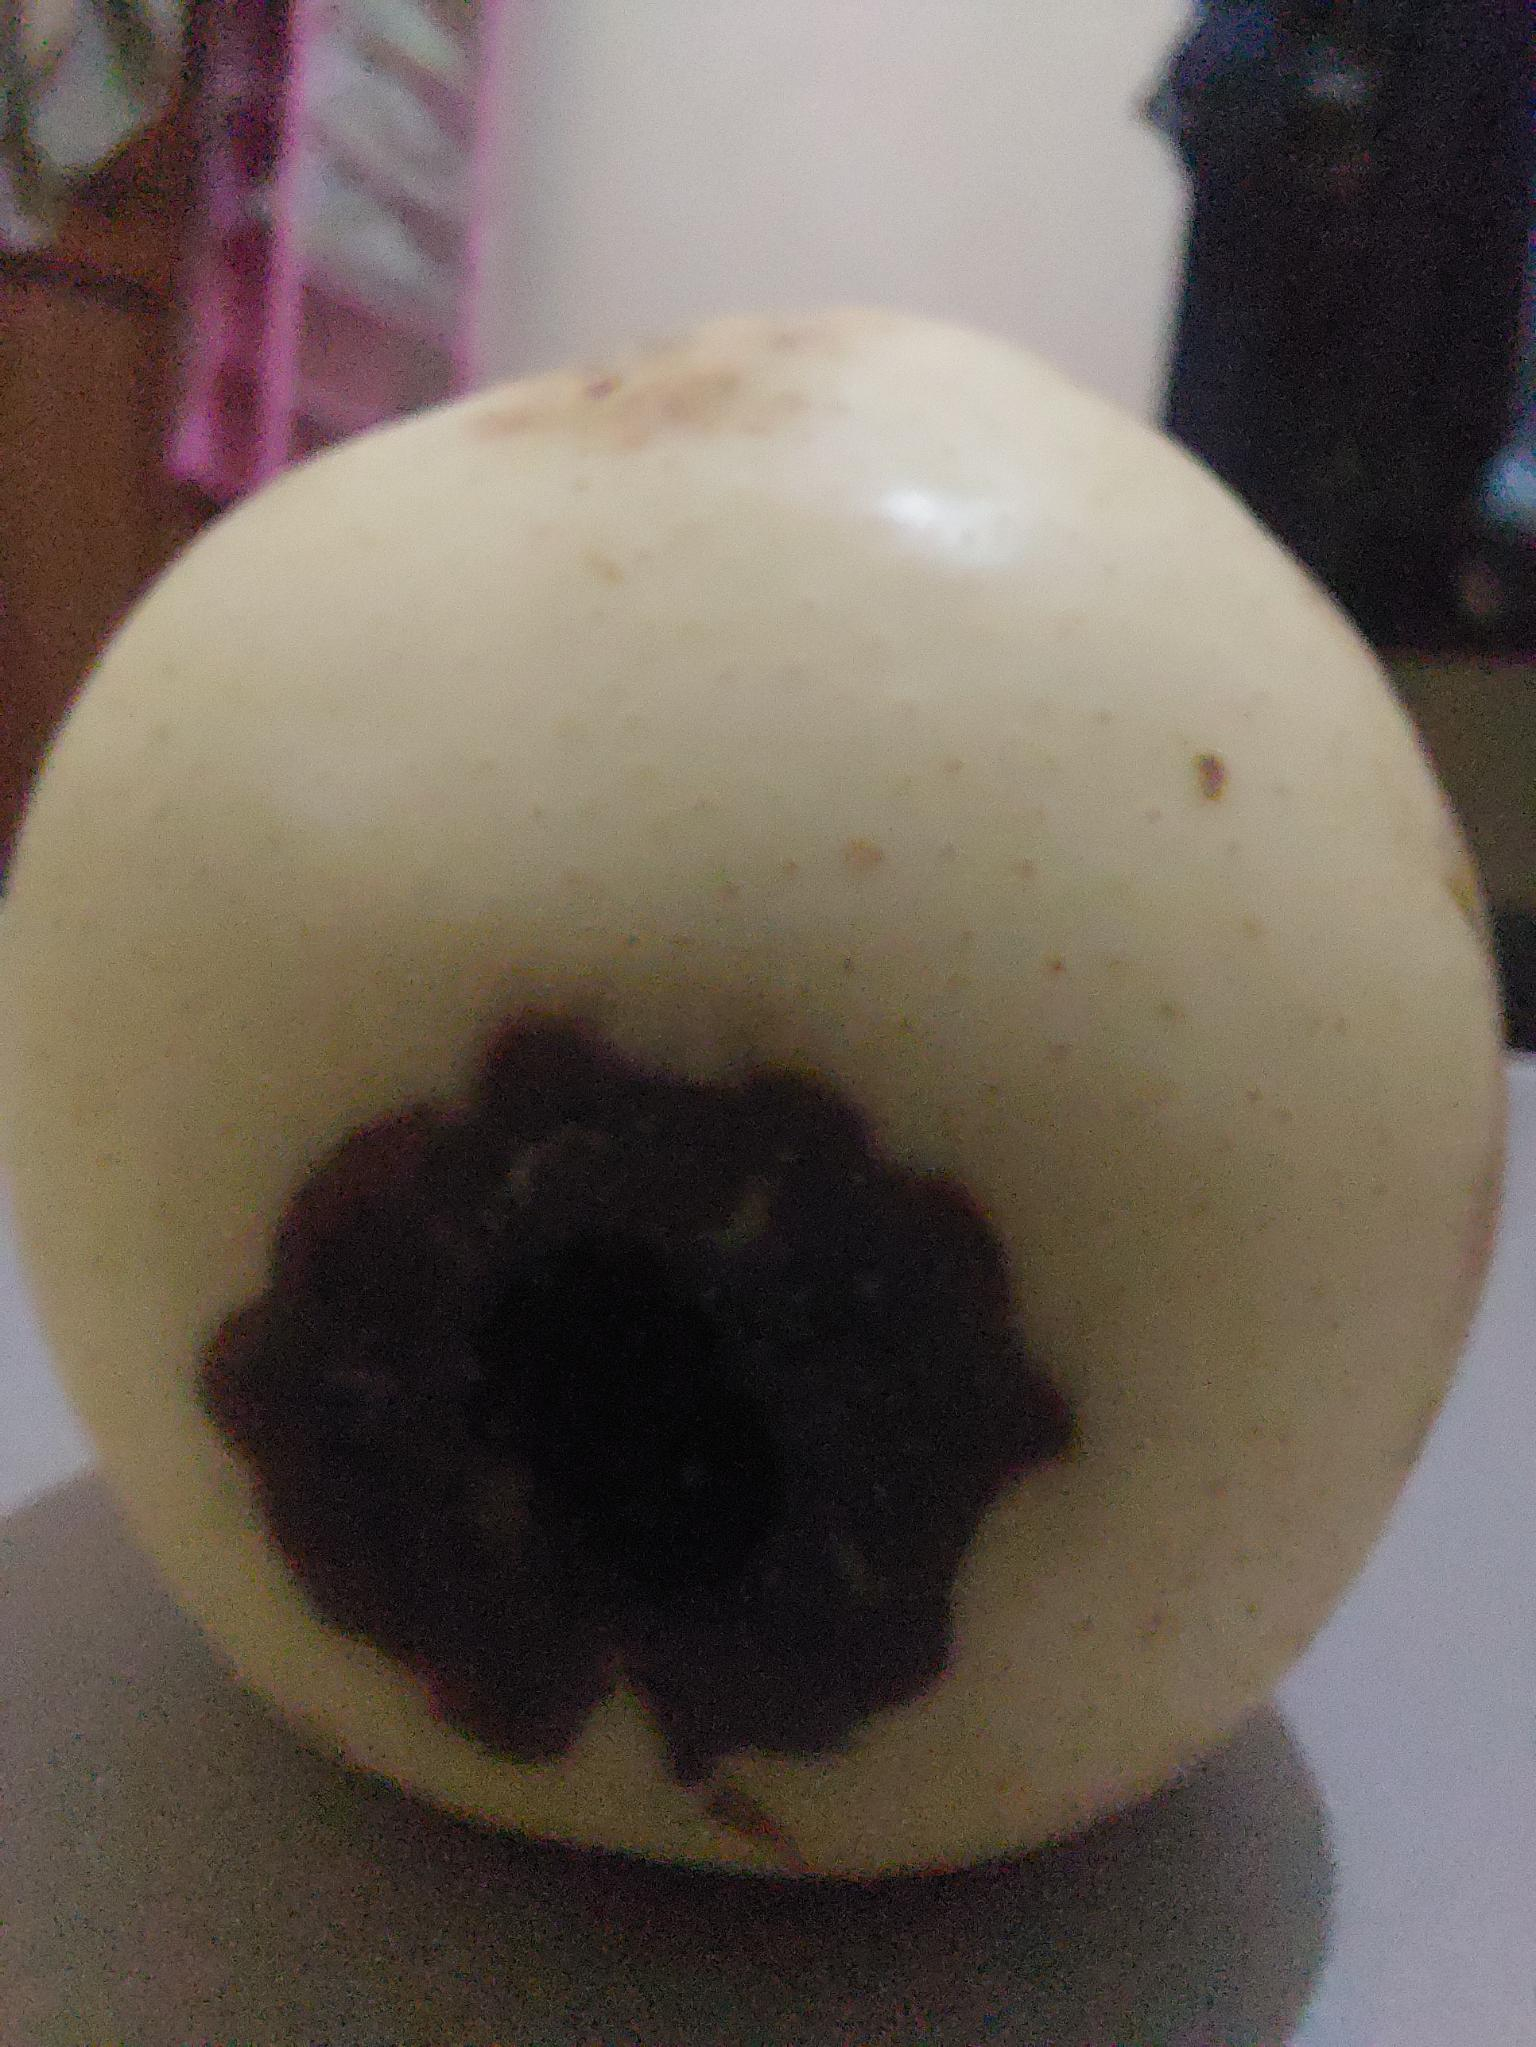Bad Pear: (0, 306, 1520, 1900)
